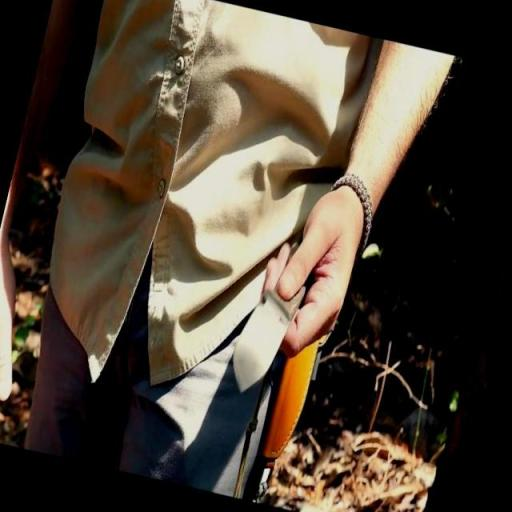knife: (222, 231, 321, 402)
